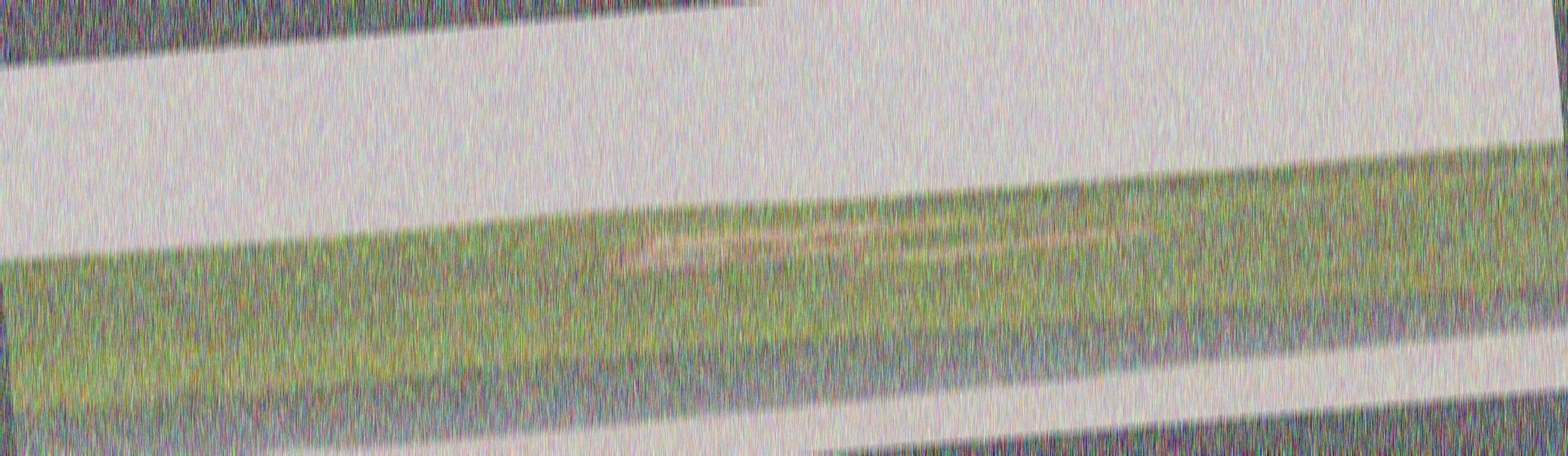Leaf_Blast: (385, 209, 1319, 302)
